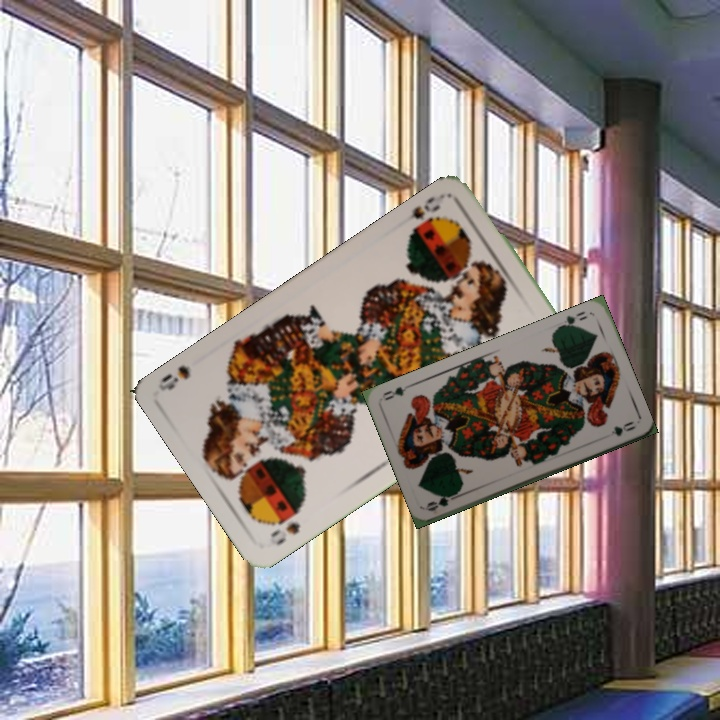GO: (423, 487, 463, 514), (555, 307, 590, 330)
SO: (397, 189, 448, 238), (266, 518, 303, 548)
